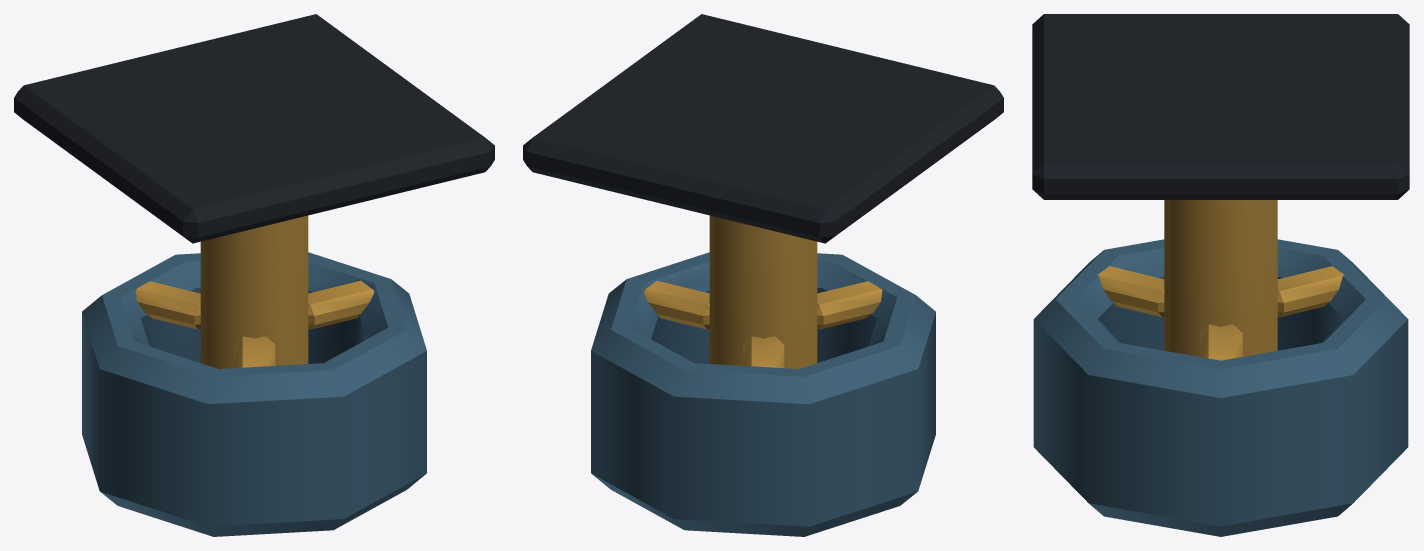
Rendered from R4M_HoverEngine_LOD1.glb.
3 renders of one model, left to right at view 1: azimuth 30°, elevation 25°; view 2: azimuth 150°, elevation 25°; view 3: azimuth 270°, elevation 25°, orthographic. The views are drawn at different scales.
Parts seen in each view (by area): view 1: R4M_HoverEngine_LOD1; view 2: R4M_HoverEngine_LOD1; view 3: R4M_HoverEngine_LOD1.
Boxes of the visible parts, x1,y1,x2,y2 form: R4M_HoverEngine_LOD1: (14,14,494,536); R4M_HoverEngine_LOD1: (523,14,1003,536); R4M_HoverEngine_LOD1: (1032,14,1409,536).
Bounding box in the file's own units: 0.52 × 0.575 × 0.52.
